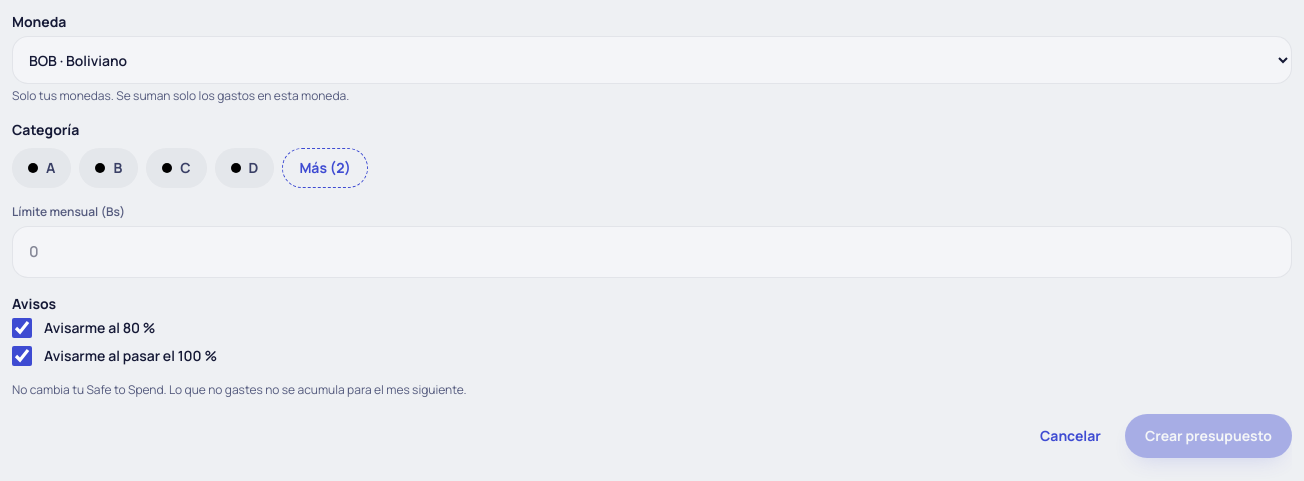
Scenario: BudgetForm › MM-179 shows four categories and opens the rest with Más
Expected: the button "D" is shown, x1=215 y1=148 x2=274 y2=188
Click the button "Más (2)": [325, 168] box x1=282 y1=148 x2=368 y2=188
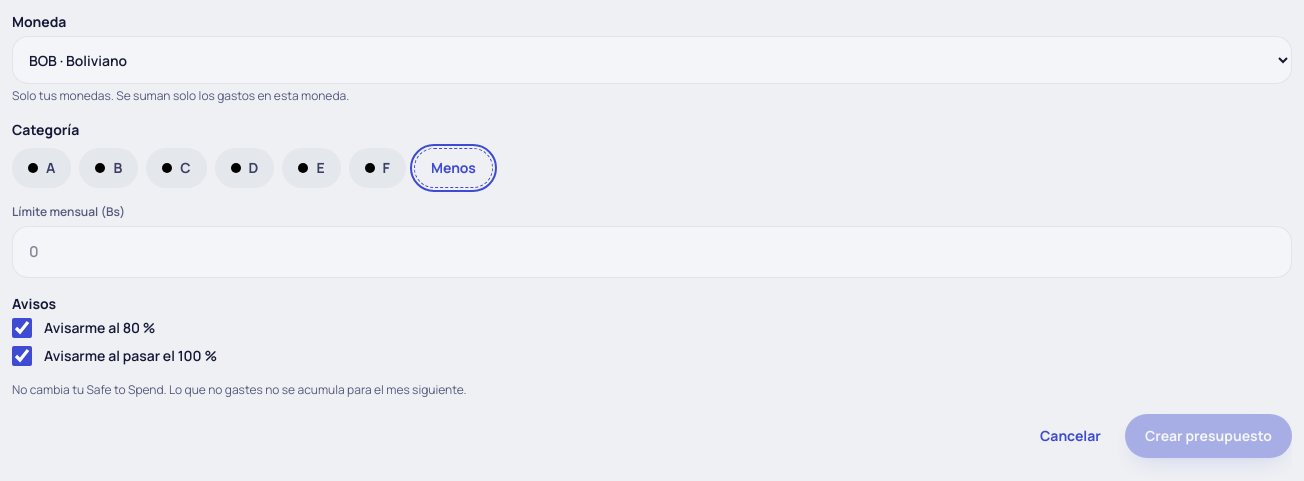
Expected: the button "F" is shown, x1=349 y1=148 x2=406 y2=188
Expected: the button "Menos" is shown, x1=414 y1=148 x2=493 y2=188
